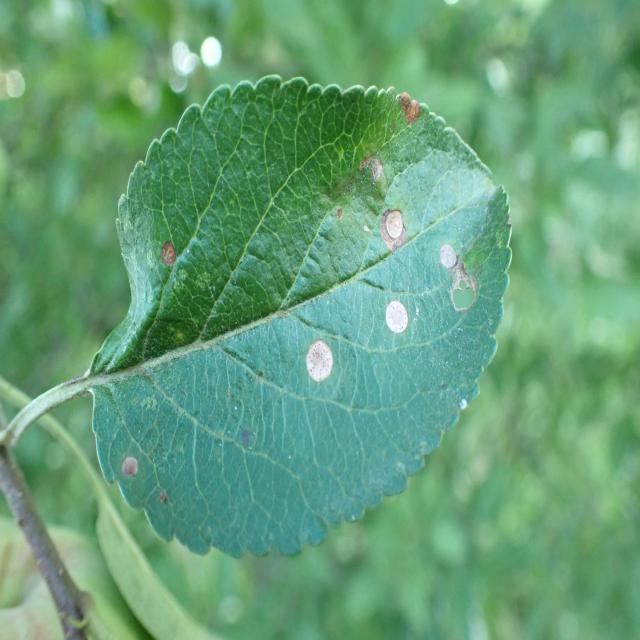Black Rot: (292, 319, 351, 413), (428, 234, 483, 311), (115, 423, 157, 511), (368, 187, 412, 254), (389, 82, 429, 145), (372, 283, 412, 343), (160, 232, 195, 292)
